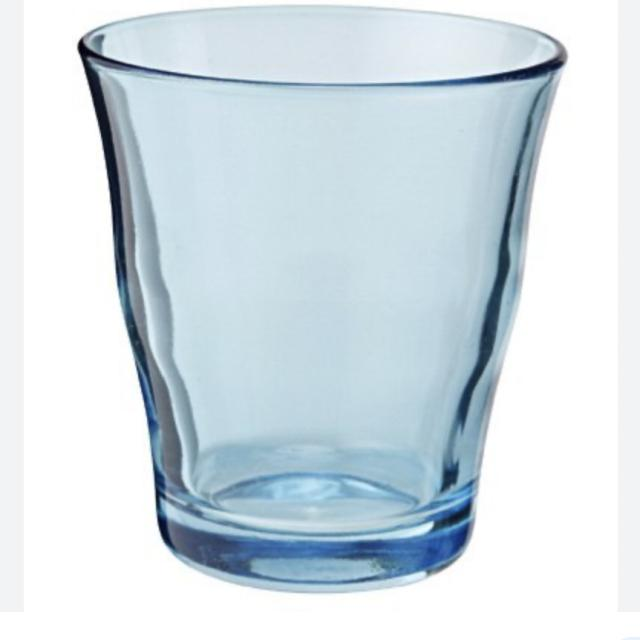recyclable: (39, 0, 612, 617)
